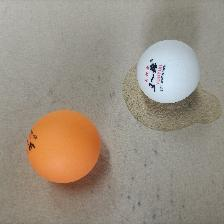WhiteBall: (137, 39, 200, 102)
YellowBall: (24, 108, 100, 183)
